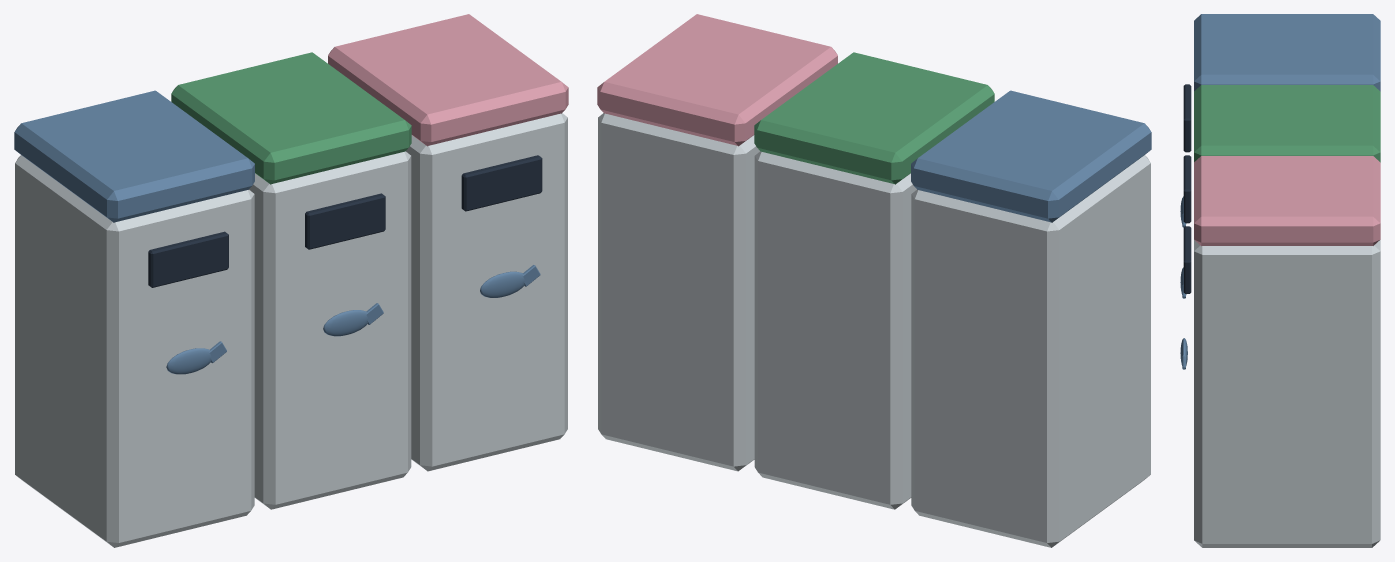
File: public_05.glb
3 renders of one model, left to right at view 1: azimuth 30°, elevation 25°; view 2: azimuth 150°, elevation 25°; view 3: azimuth 270°, elevation 25°, orthographic. The views are drawn at different scales.
Visible parts, largest first — view 1: WasteBin (×3), BinTop (×3), Opening (×3), WhaleBody (×3); view 2: WasteBin (×3), BinTop (×3); view 3: WasteBin, BinTop (×3), Opening (×3).
Boxes of the visible parts, x1,y1,x2,y2 form: WasteBin (×3): [15, 113, 567, 547]; BinTop (×3): [14, 14, 568, 222]; Opening (×3): [148, 155, 542, 287]; WhaleBody (×3): [166, 271, 524, 374]; WasteBin (×3): [598, 113, 1150, 547]; BinTop (×3): [597, 14, 1151, 222]; WasteBin: [1194, 240, 1380, 547]; BinTop (×3): [1194, 14, 1380, 245]; Opening (×3): [1183, 84, 1191, 293].
Bounding box in the file's own units: 1.06 × 0.785 × 0.429.
